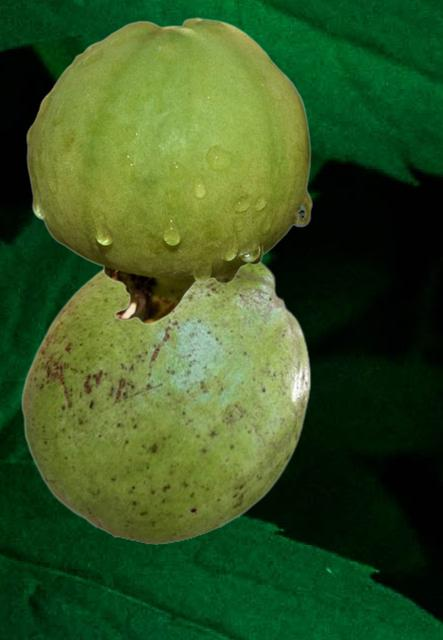guava: (26, 17, 311, 323), (20, 262, 310, 543)
